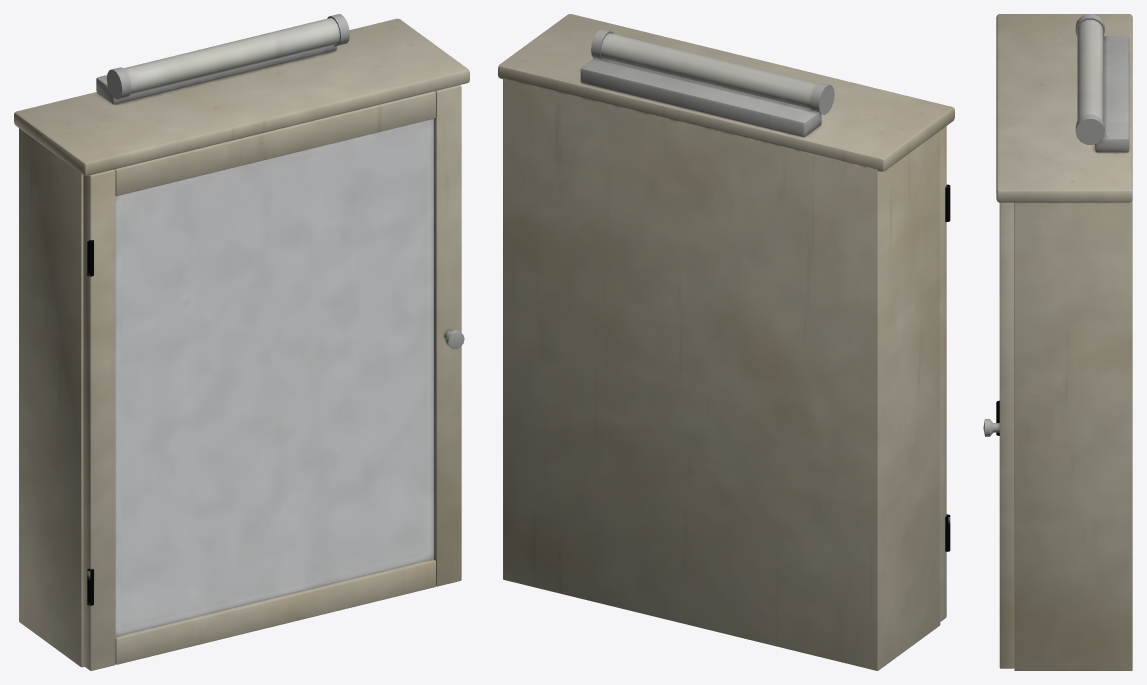
File: armario_banheiro.glb
3 views of the same model, side by side, from view 1: azimuth 30°, elevation 25°; view 2: azimuth 150°, elevation 25°; view 3: azimuth 270°, elevation 25° (orthographic). The views are drawn at different scales.
Visible parts, largest first — view 1: porta_espelho, corpo; view 2: corpo, porta_espelho; view 3: corpo, porta_espelho.
Part boxes in pixels (x1=…): porta_espelho: x1=83, y1=85, x2=464, y2=670; corpo: x1=14, y1=14, x2=469, y2=667; corpo: x1=498, y1=14, x2=954, y2=670; porta_espelho: x1=940, y1=126, x2=950, y2=621; corpo: x1=996, y1=14, x2=1132, y2=670; porta_espelho: x1=983, y1=202, x2=1014, y2=668.
Size of the model in its own units: 0.516 by 0.7015 by 0.183.
2 materials, 2 textured.
